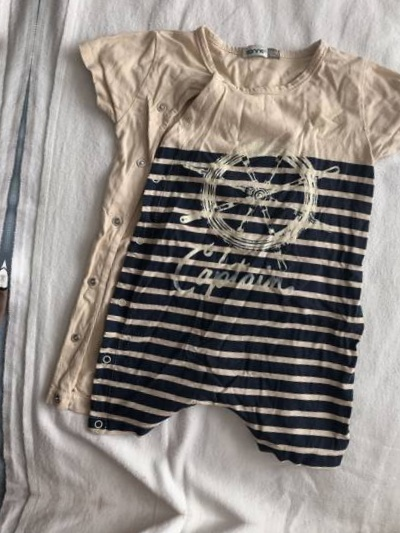Body: (10, 0, 400, 479), (0, 0, 13, 422)
